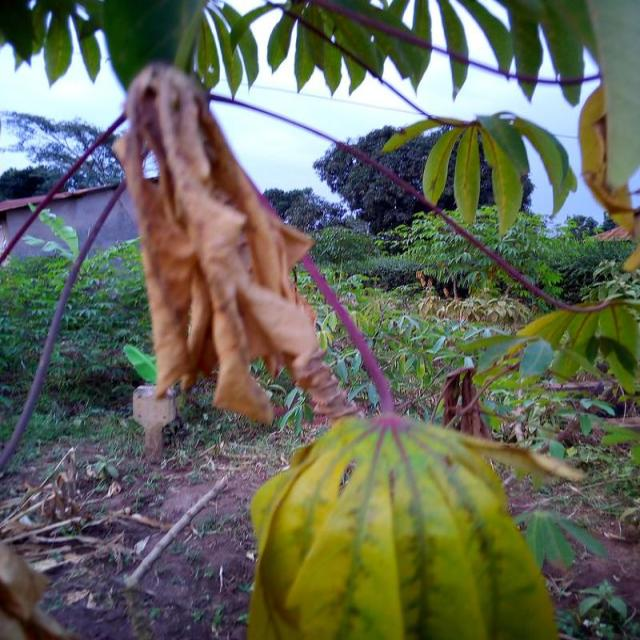cassava leaf: (246, 411, 559, 638)
